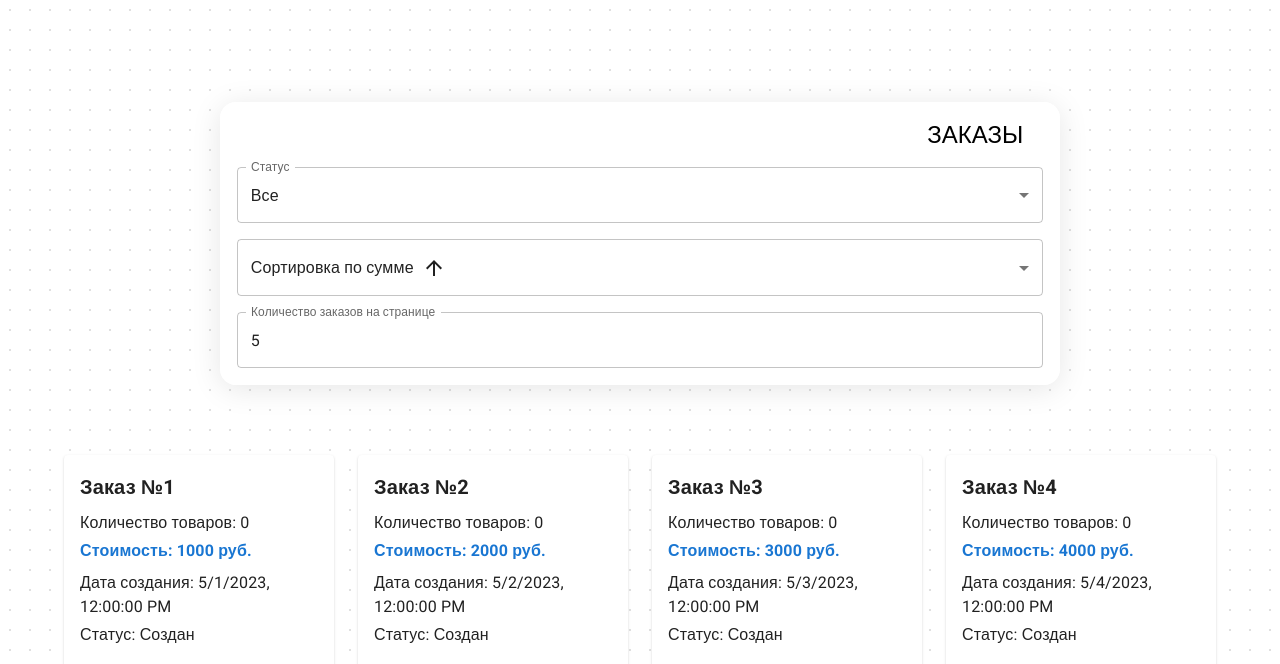
Test: OrdersPage › изменяет количество заказов на странице
Step 1. Replace the text in the number field labelled "Количество заказов на странице" with "3" → (640, 340), box [237,312,1043,368]
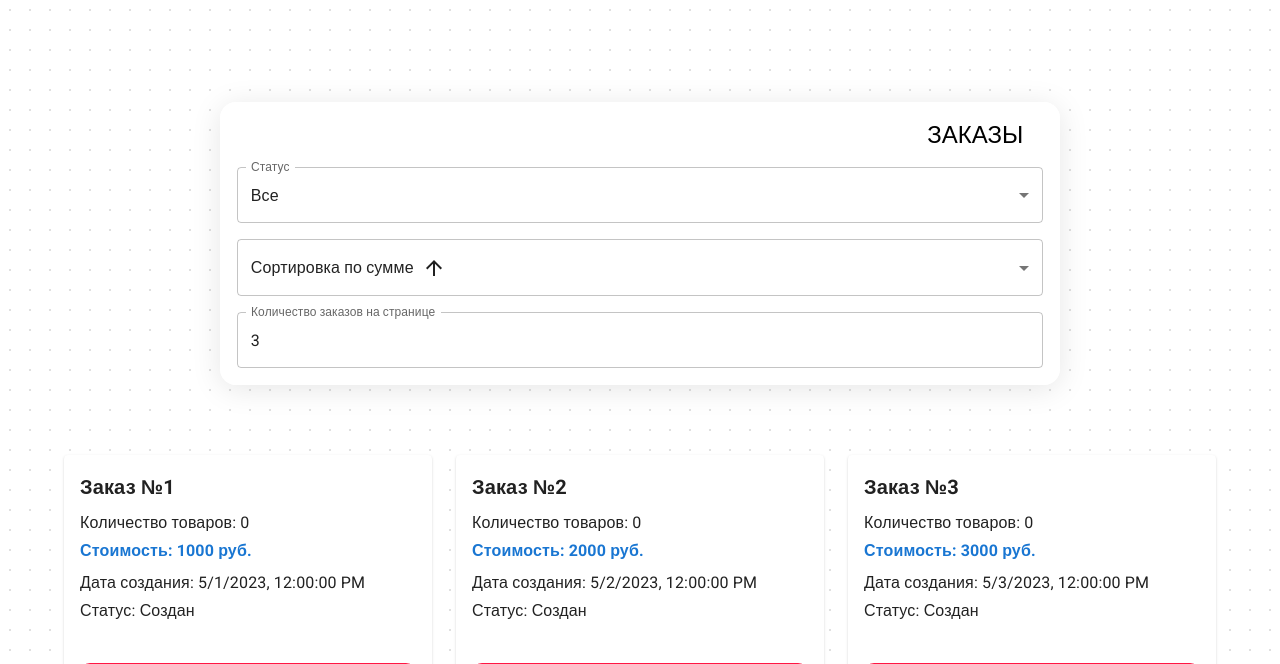
expect the number of headings "Заказ №1" is 3: met, box [80,475,175,499]; [472,475,567,499]; [864,475,959,499]
